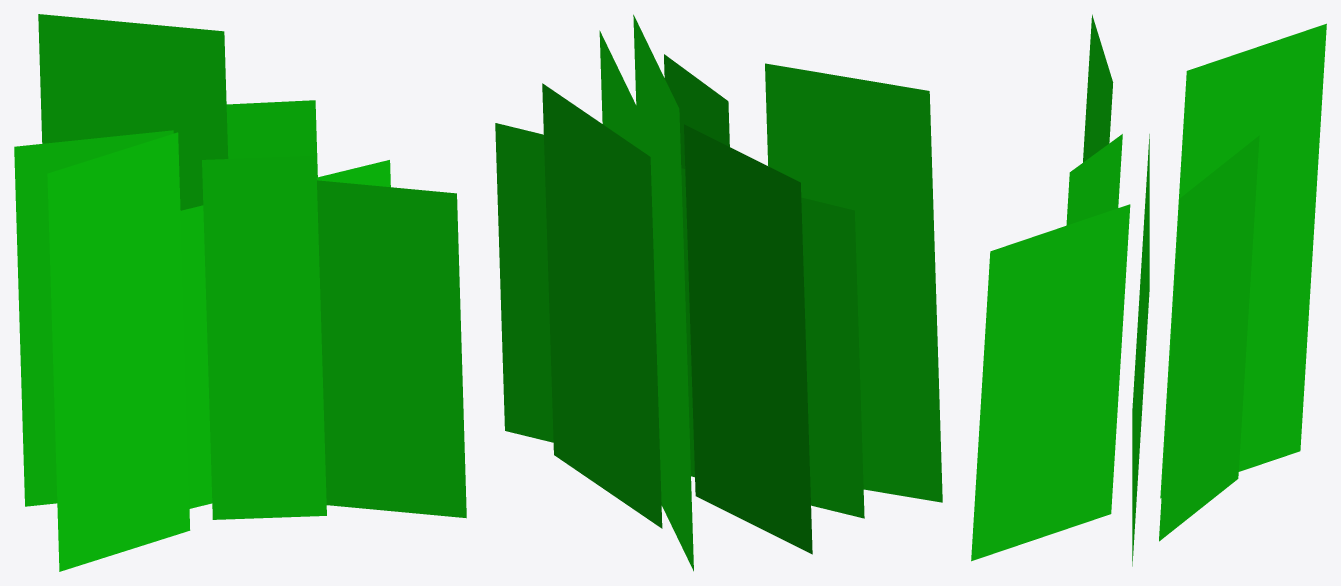
The model's file is grass_3.fbx.
3 views of the same model, side by side, from view 1: azimuth 30°, elevation 25°; view 2: azimuth 150°, elevation 25°; view 3: azimuth 270°, elevation 25° (orthographic). The views are drawn at different scales.
Parts seen in each view (by area): view 1: grass3; view 2: grass3; view 3: grass3.
Part boxes in pixels (<box>): grass3: <box>14,14,466,571</box>; grass3: <box>495,14,942,571</box>; grass3: <box>971,14,1326,566</box>.
Bounding box in the file's own units: 55.74 × 63.74 × 47.27.
